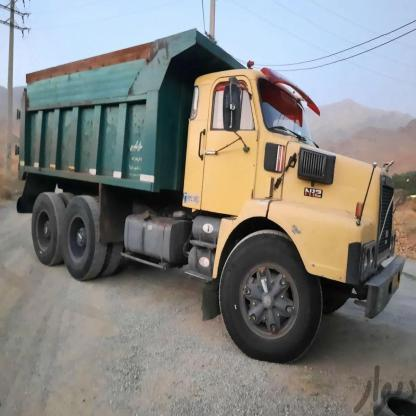Truck: (5, 45, 408, 372)
